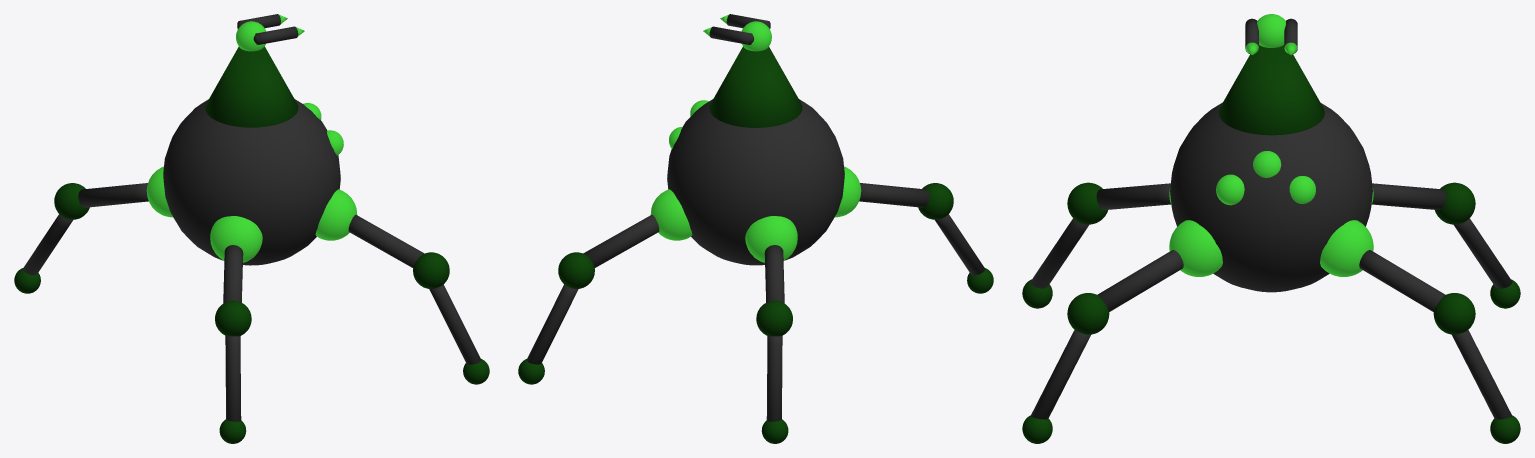
Rendered from healer_mechant.fbx.
The picture shows the model from 3 angles, left to right: view 1: azimuth 30°, elevation 25°; view 2: azimuth 150°, elevation 25°; view 3: azimuth 270°, elevation 25°; orthographic projection. The views are drawn at different scales.
Parts seen in each view (by area): view 1: corp, tete, Sphere.001, avant_pates, pates, Sphere.002, Sphere.003, Cylinder, corp.001; view 2: corp, tete, Sphere.001, avant_pates, pates, Sphere.002, Sphere.003, Cylinder, corp.001; view 3: corp, avant_pates, tete, pates, Sphere.002, Sphere.001, Sphere.003, corp.001, Sphere, Cylinder, Sphere.005, Sphere.004.
Part boxes in pixels (x1,y1,x2,y2): corp: (163, 99, 340, 265); tete: (205, 46, 298, 127); Sphere.001: (146, 166, 357, 262); avant_pates: (78, 183, 424, 303); pates: (22, 214, 481, 421); Sphere.002: (54, 183, 449, 336); Sphere.003: (14, 268, 489, 443); Cylinder: (237, 14, 298, 44); corp.001: (236, 21, 266, 51); corp: (667, 99, 844, 265); tete: (709, 46, 802, 127); Sphere.001: (650, 166, 861, 262); avant_pates: (583, 183, 929, 303); pates: (526, 214, 985, 421); Sphere.002: (558, 183, 953, 336); Sphere.003: (518, 268, 993, 443); Cylinder: (709, 14, 770, 44); corp.001: (741, 21, 771, 51); corp: (1170, 102, 1372, 292); avant_pates: (1096, 183, 1446, 311); tete: (1218, 45, 1324, 135); pates: (1030, 218, 1512, 419); Sphere.002: (1067, 182, 1475, 334); Sphere.001: (1169, 188, 1373, 276); Sphere.003: (1022, 279, 1520, 443); corp.001: (1257, 14, 1285, 47); Sphere: (1216, 174, 1244, 205); Cylinder: (1245, 18, 1297, 53); Sphere.005: (1253, 151, 1281, 177); Sphere.004: (1289, 176, 1315, 203).
Size of the model in its own units: 373 by 421 by 529.
